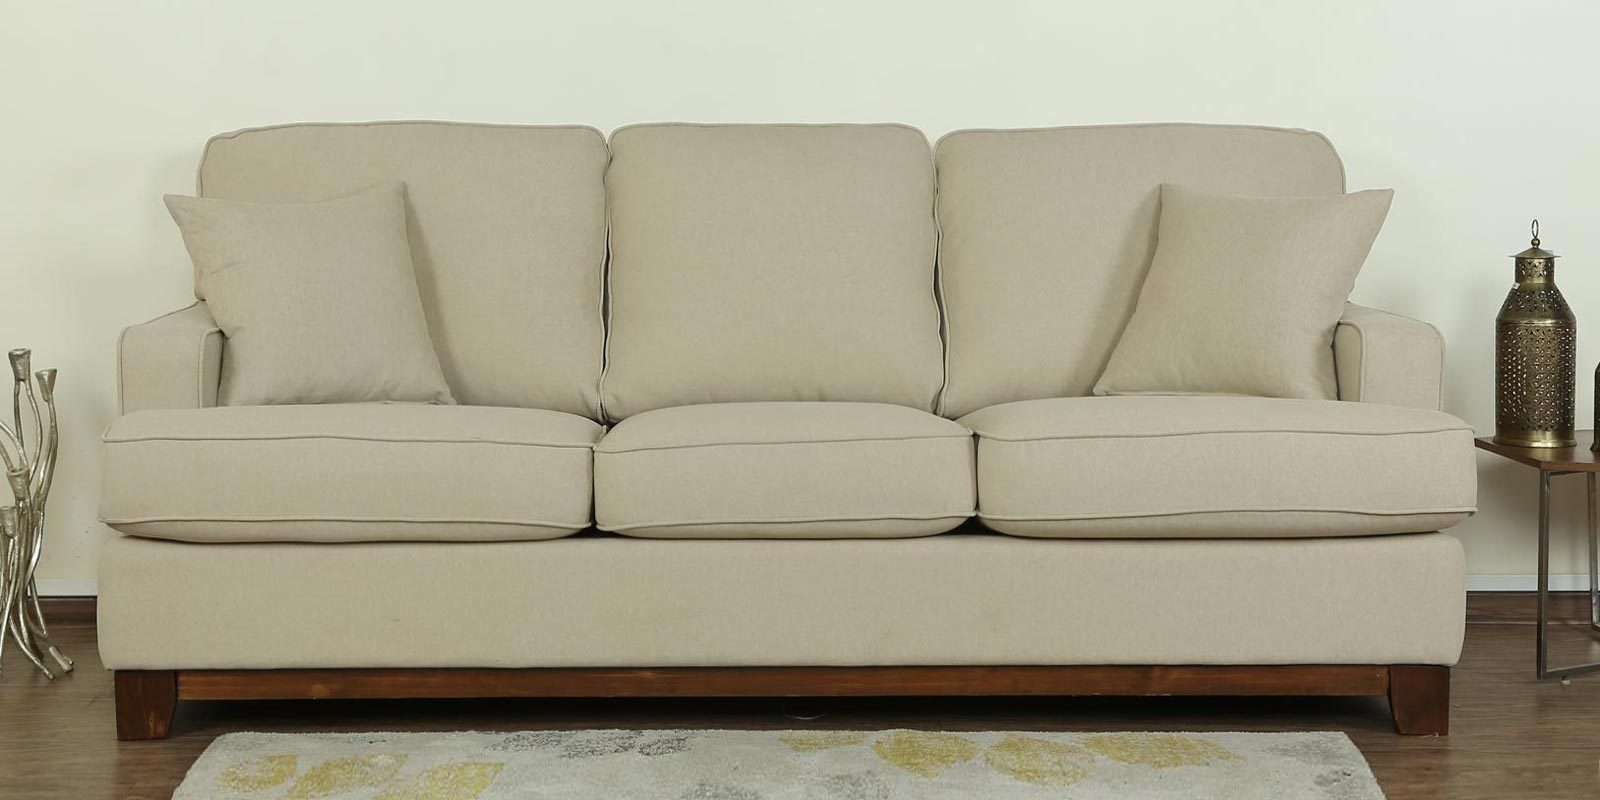Parana Three Seater Sofa in Beige Color by CasaCraft: (92, 121, 1479, 741)
